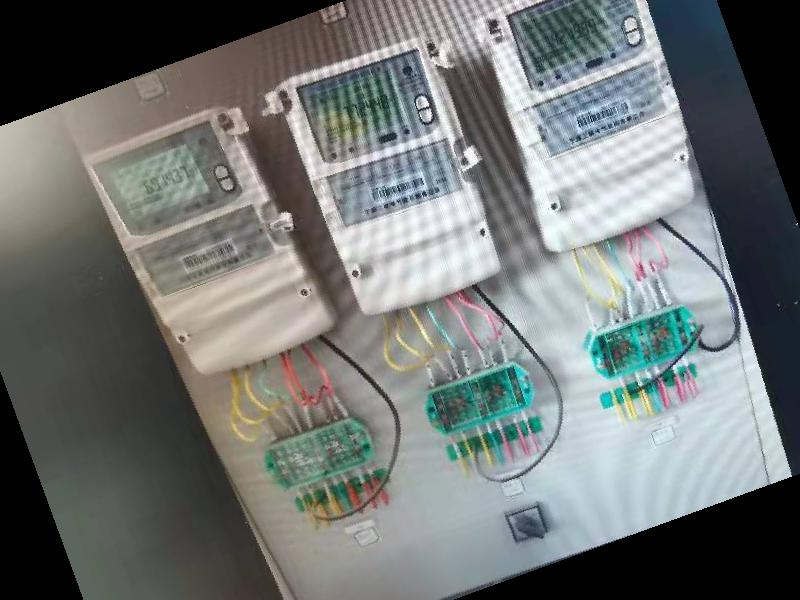digital: (82, 105, 338, 375), (282, 39, 500, 316), (485, 1, 694, 254)
